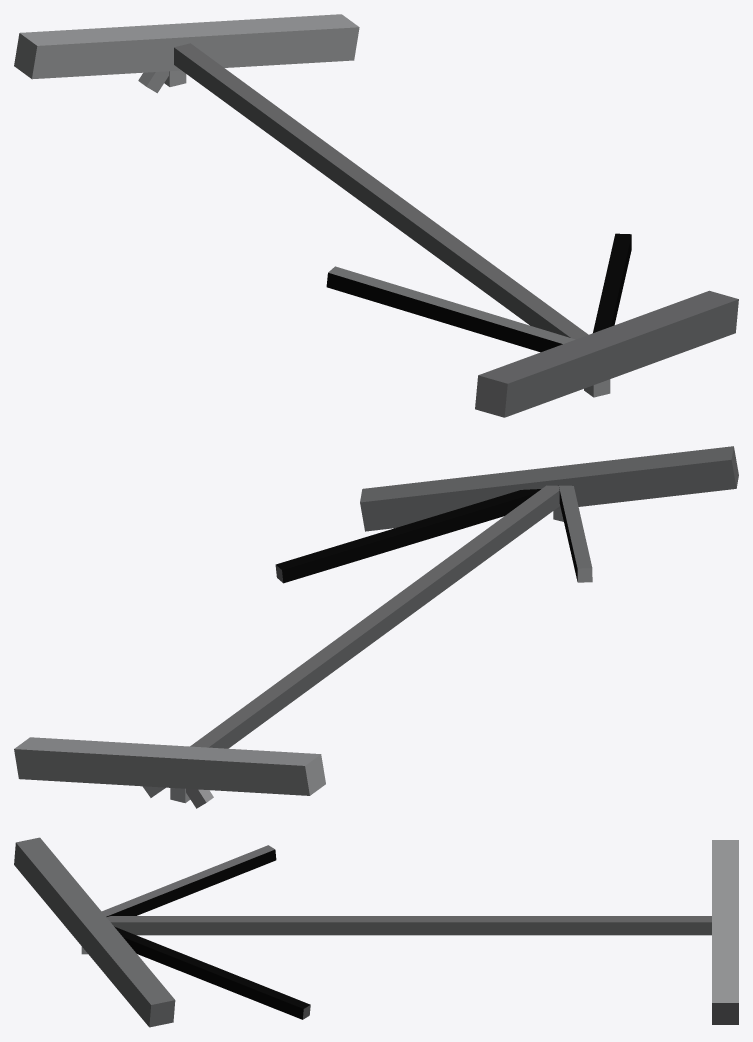
3 views of the same model, one above another, from view 1: azimuth 30°, elevation 25°; view 2: azimuth 150°, elevation 25°; view 3: azimuth 270°, elevation 25° (orthographic). The views are drawn at different scales.
Bounding box in the file's own units: 0.7116 × 0.1841 × 1.75.
